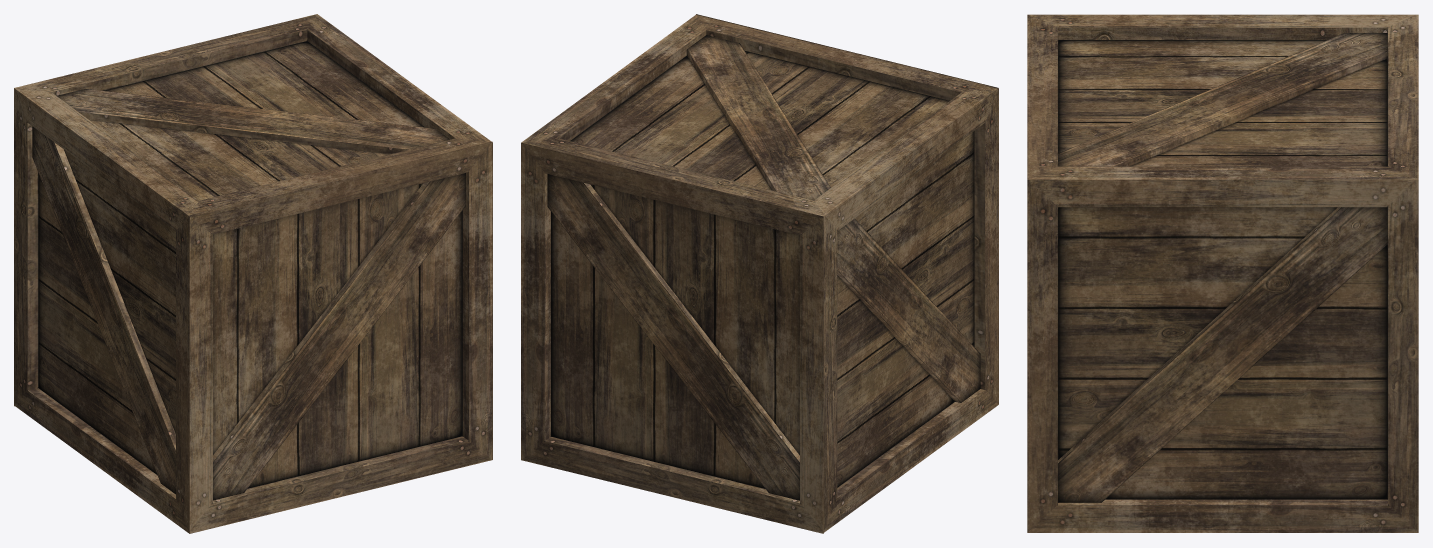
3 views of the same model, side by side, from view 1: azimuth 30°, elevation 25°; view 2: azimuth 150°, elevation 25°; view 3: azimuth 270°, elevation 25° (orthographic). The views are drawn at different scales.
Parts seen in each view (by area): view 1: Mesh1; view 2: Mesh1; view 3: Mesh1.
Part boxes in pixels (box(x1,y1,x2,y2)): Mesh1: box(14, 14, 492, 533); Mesh1: box(521, 14, 998, 533); Mesh1: box(1027, 14, 1418, 532).
Size of the model in its own units: 2 by 2.01 by 2.01.
Materials: 1 (1 with a texture image).
